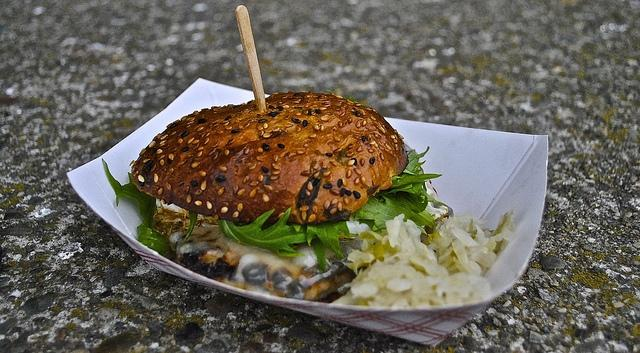lettuce: (101, 157, 170, 255), (217, 206, 307, 256), (306, 220, 358, 260), (382, 190, 428, 212), (403, 146, 430, 175), (185, 212, 198, 242), (390, 185, 412, 190)
